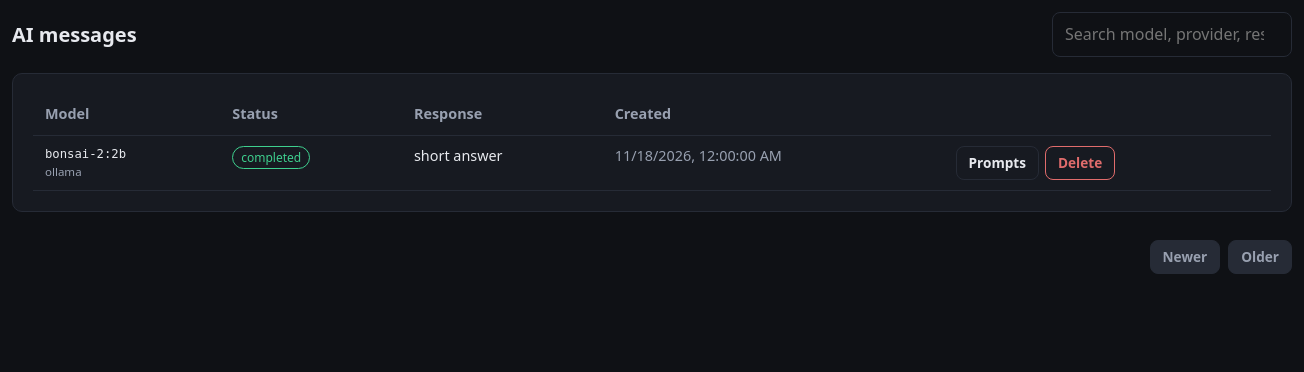
Test: AiMessagesAdmin › shows a loading state while prompts are being fetched
The width and height of the screenshot is (1304, 372).
Expected: the text "short answer" is shown, x1=402 y1=136 x2=603 y2=191
Click the button "Prompts". click: click(997, 163)
box: x1=956 y1=146 x2=1039 y2=180
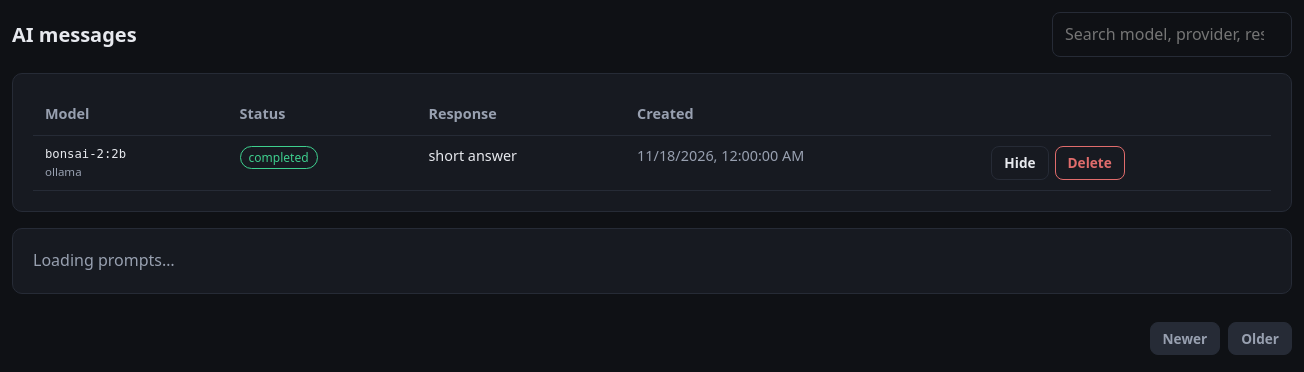
Now the text "Loading prompts…" is shown, box x1=33 y1=250 x2=175 y2=272
